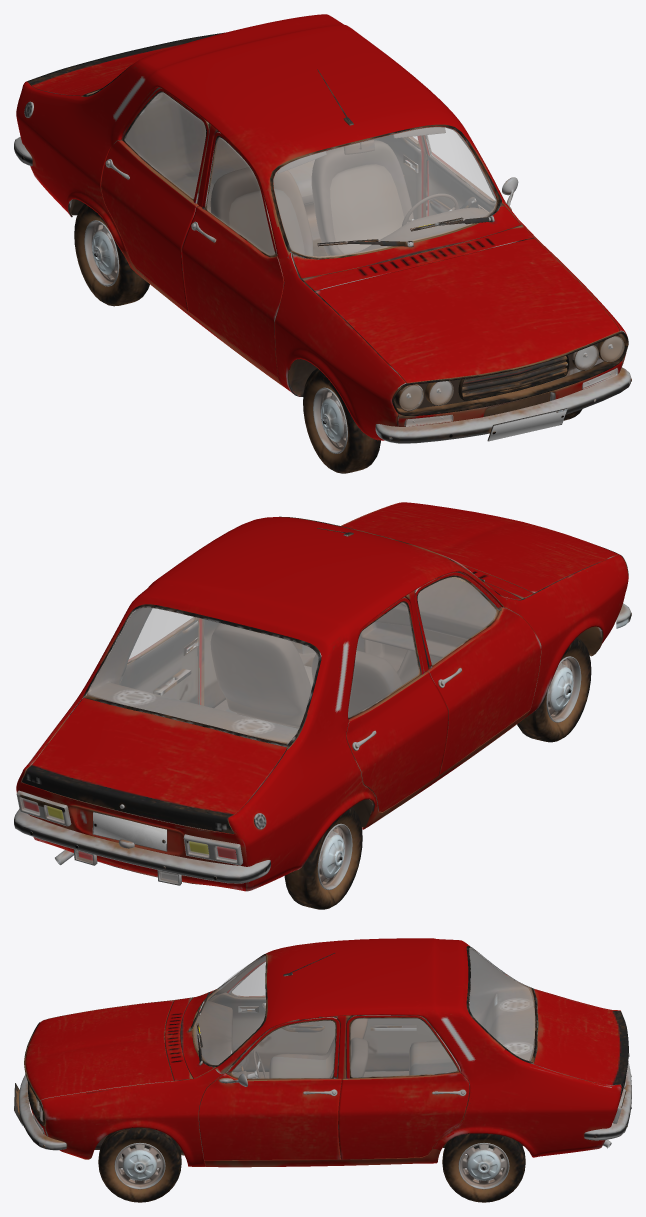
Rendered from car.glb.
The picture shows the model from 3 angles, top to bottom: view 1: azimuth 30°, elevation 25°; view 2: azimuth 150°, elevation 25°; view 3: azimuth 270°, elevation 25°; orthographic projection. The views are drawn at different scales.
Visible parts, largest first — view 1: Body, Hood, DFR, DRR, Wheel FR.001, Wheel FR.002, DFL, Trunk, DRL; view 2: Body, Trunk, DFR, DRR, Hood, DRL, Wheel FR.002, Wheel FR.001, DFL; view 3: Body, DFL, DRL, Hood, Trunk, DFR, Wheel FR.004, Wheel FR.003, DRR.
Boxes of the visible parts, left/top/right/bottom form: Body: left=14, top=14, right=631, bottom=443; Hood: left=315, top=238, right=619, bottom=383; DFR: left=181, top=132, right=284, bottom=377; DRR: left=101, top=88, right=209, bottom=310; Wheel FR.001: left=303, top=368, right=380, bottom=473; Wheel FR.002: left=74, top=204, right=149, bottom=306; DFL: left=423, top=128, right=518, bottom=215; Trunk: left=27, top=32, right=224, bottom=95; DRL: left=372, top=135, right=429, bottom=219; Body: left=14, top=502, right=631, bottom=891; Trunk: left=22, top=698, right=287, bottom=833; DFR: left=414, top=572, right=541, bottom=774; DRR: left=346, top=597, right=448, bottom=812; Hood: left=342, top=502, right=618, bottom=593; DRL: left=120, top=608, right=198, bottom=704; Wheel FR.002: left=284, top=807, right=362, bottom=909; Wheel FR.001: left=517, top=637, right=591, bottom=742; DFL: left=204, top=619, right=225, bottom=707; Body: left=14, top=938, right=631, bottom=1167; DFL: left=199, top=1017, right=341, bottom=1160; DRL: left=338, top=1015, right=469, bottom=1159; Hood: left=25, top=1000, right=173, bottom=1100; Trunk: left=532, top=989, right=629, bottom=1096; DFR: left=208, top=961, right=335, bottom=1072; Wheel FR.004: left=98, top=1127, right=181, bottom=1202; Wheel FR.003: left=442, top=1133, right=525, bottom=1202; DRR: left=364, top=1016, right=441, bottom=1071.
Size of the model in its own units: 0.0326 by 0.0313 by 0.0836.
Materials: 10 (9 with a texture image).
